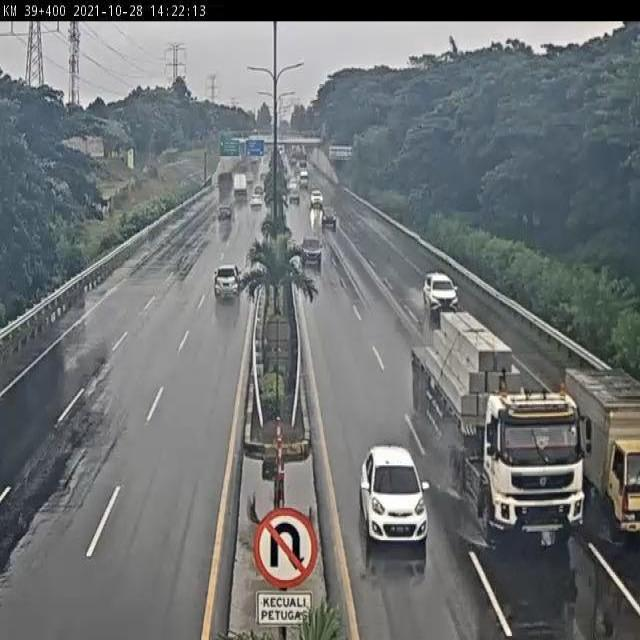ARABA: (356, 441, 431, 551), (420, 266, 461, 310), (213, 263, 242, 305)
KAMYONET: (564, 360, 640, 537)
TIR: (411, 308, 580, 557)
